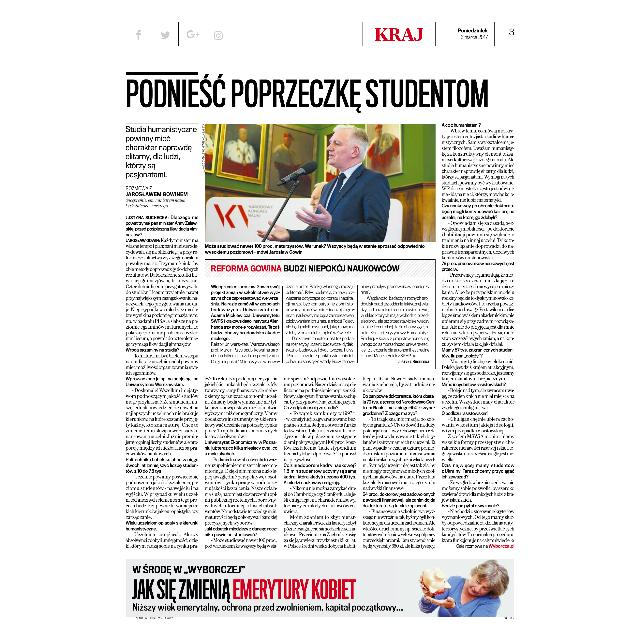article: (124, 71, 518, 553)
